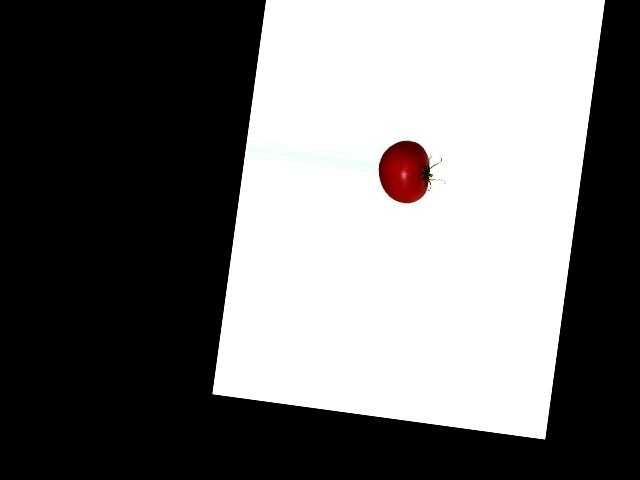tomato: (374, 138, 433, 205)
